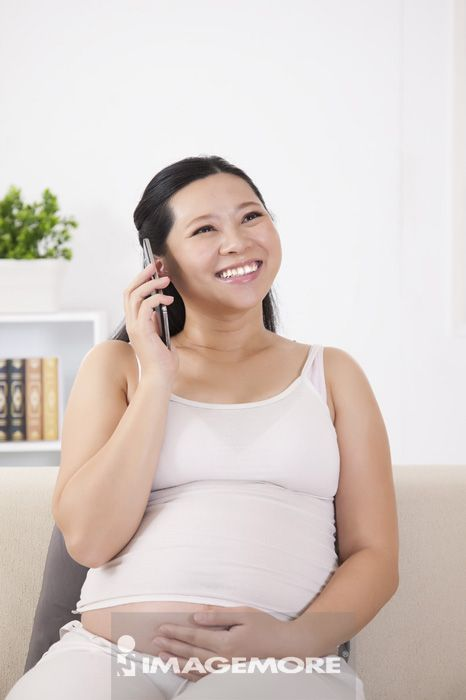phone: (142, 237, 176, 349)
talk: (123, 199, 283, 388)
